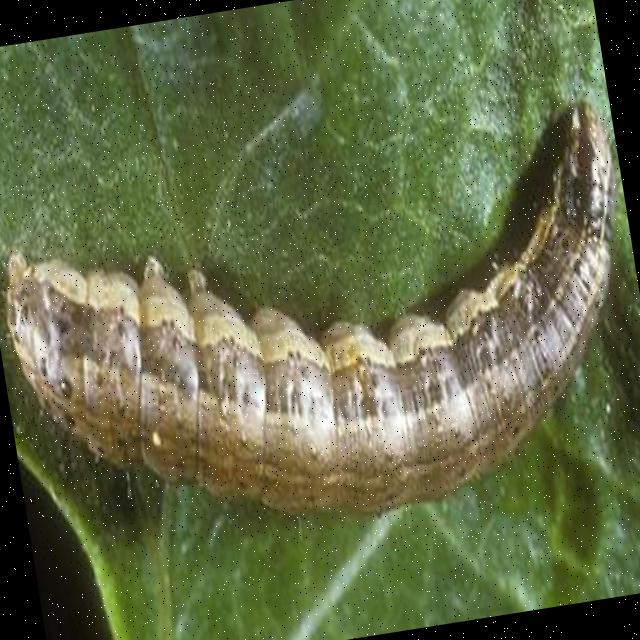worm: (1, 94, 640, 568)
